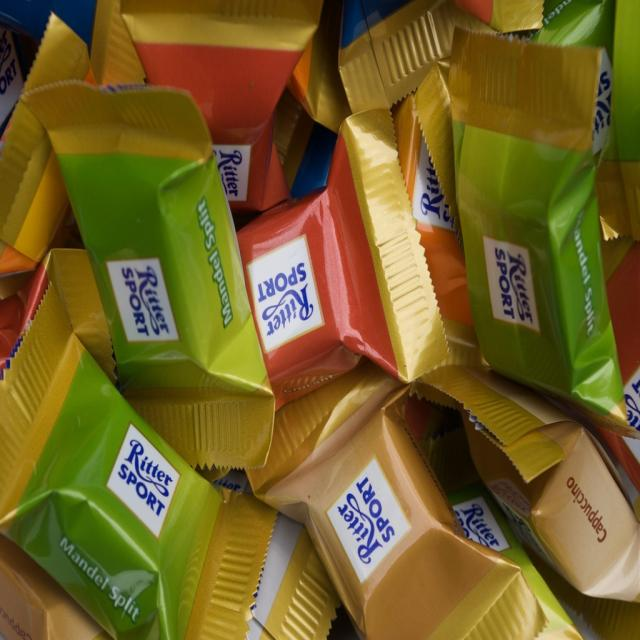rittersport: (325, 458, 414, 588), (247, 233, 327, 355), (108, 426, 178, 534), (480, 235, 543, 337), (106, 258, 178, 345), (414, 140, 460, 231), (456, 495, 512, 556), (213, 142, 254, 205), (592, 48, 614, 154)
